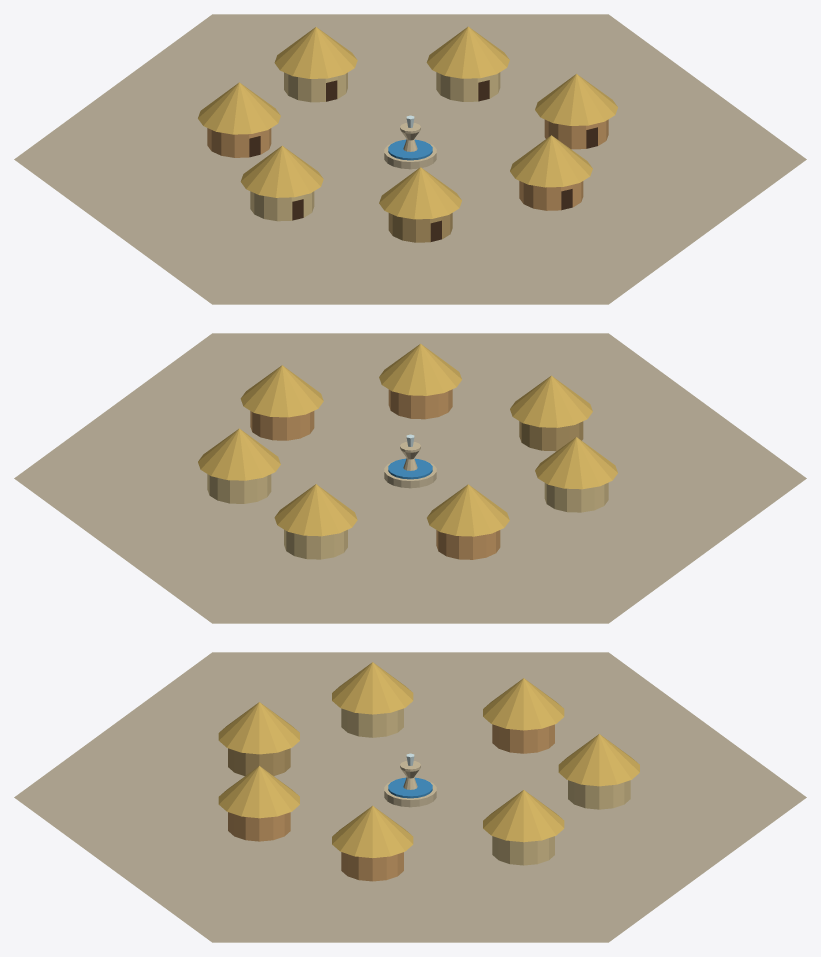
File: district_mbanza_1.fbx
3 renders of one model, top to bottom at view 1: azimuth 30°, elevation 25°; view 2: azimuth 150°, elevation 25°; view 3: azimuth 270°, elevation 25°, orthographic.
Visible parts, largest first — view 1: district_mbanza_1; view 2: district_mbanza_1; view 3: district_mbanza_1.
Part boxes in pixels (box(x1,y1,x2,y2)): district_mbanza_1: box(14, 14, 806, 304); district_mbanza_1: box(14, 333, 806, 623); district_mbanza_1: box(14, 652, 806, 942).
Bounding box in the file's own units: 182 × 18.6 × 210.
